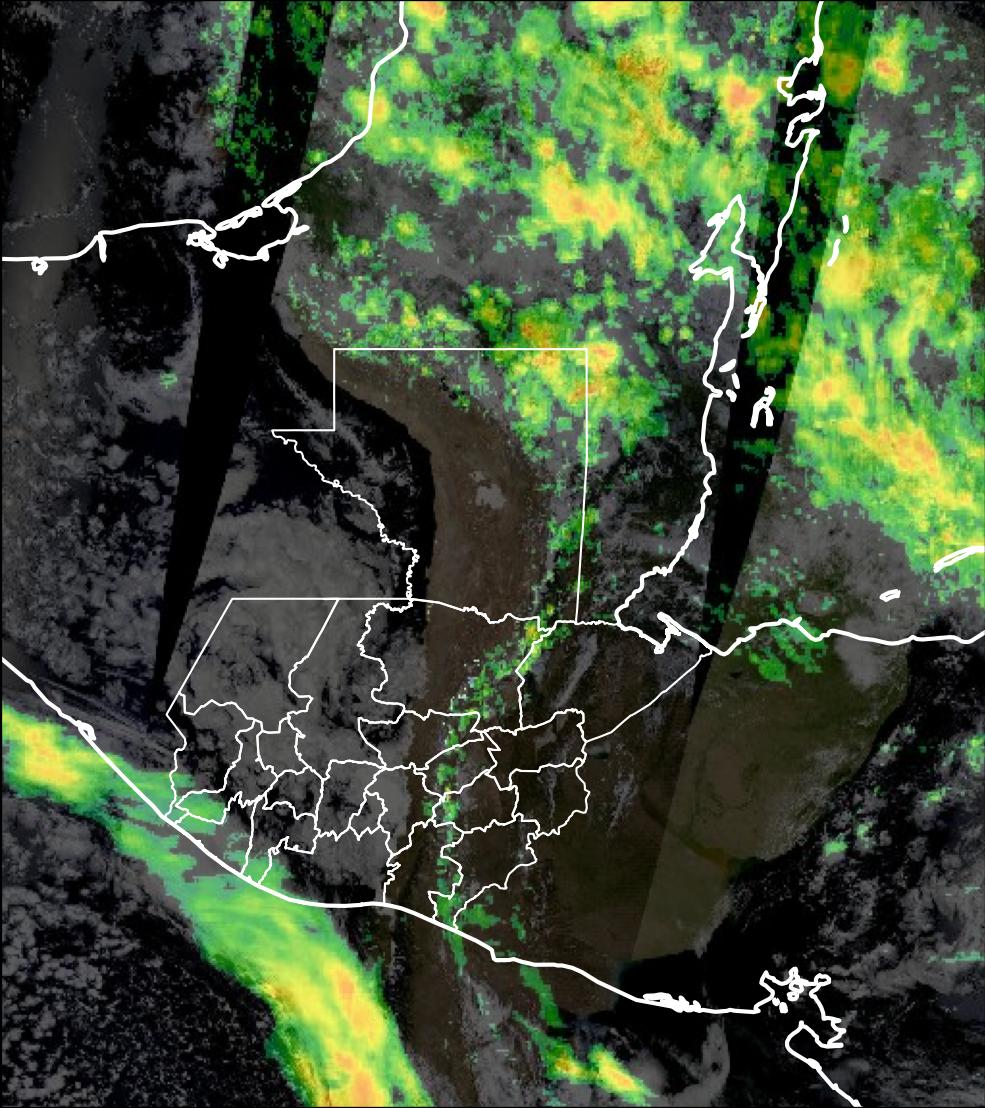precipitacion: (823, 377, 952, 495), (544, 160, 634, 247), (708, 73, 771, 156)
